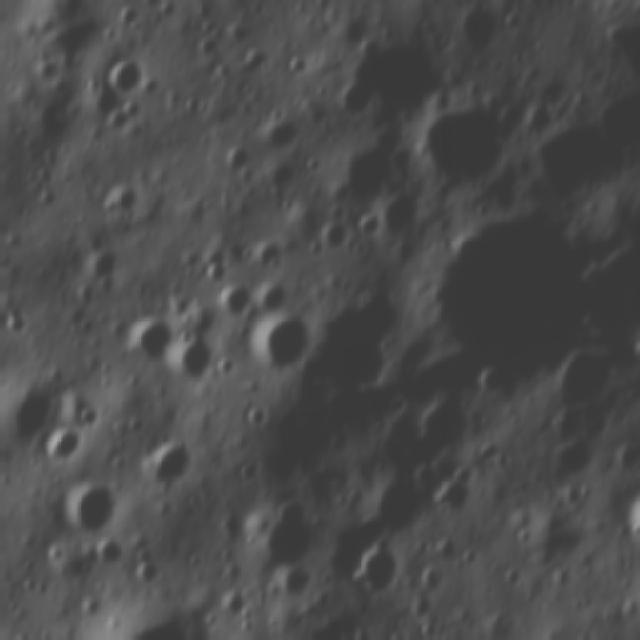crater: (410, 209, 602, 393), (402, 88, 520, 194), (334, 24, 448, 122), (239, 306, 318, 386), (238, 498, 318, 574), (53, 480, 124, 543), (163, 333, 222, 402), (348, 536, 402, 606), (111, 314, 175, 371), (136, 441, 201, 496), (93, 49, 149, 100), (609, 485, 640, 566), (454, 1, 501, 54), (34, 427, 86, 473), (76, 244, 124, 290), (91, 101, 140, 145), (102, 179, 144, 223), (309, 213, 348, 259), (215, 276, 253, 322), (198, 257, 236, 291), (627, 320, 640, 377)
